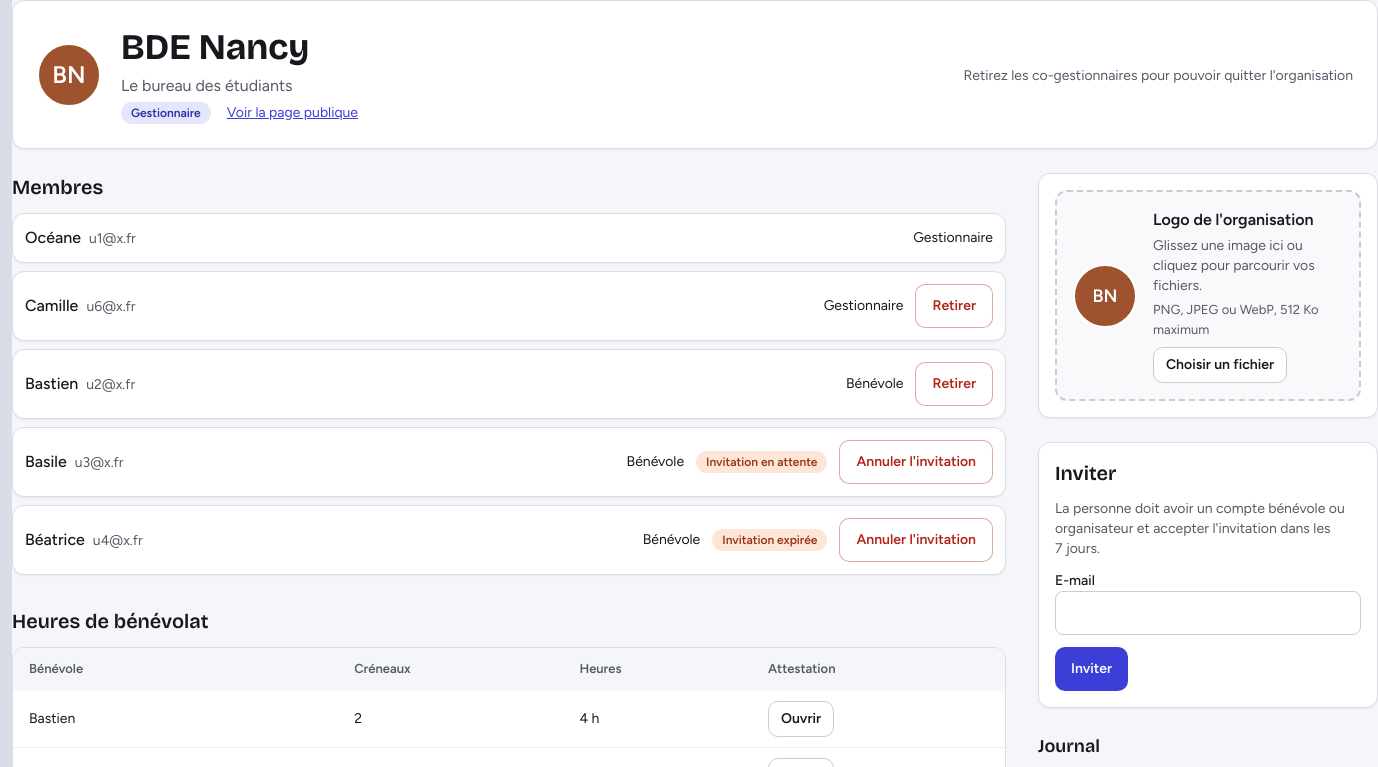
OrganizationDetailView › sends the invitation and confirms it
The image size is (1378, 767).
Type "b@x.fr" into the field labelled "E-mail" at (1208, 613), box [1055, 591, 1361, 635]
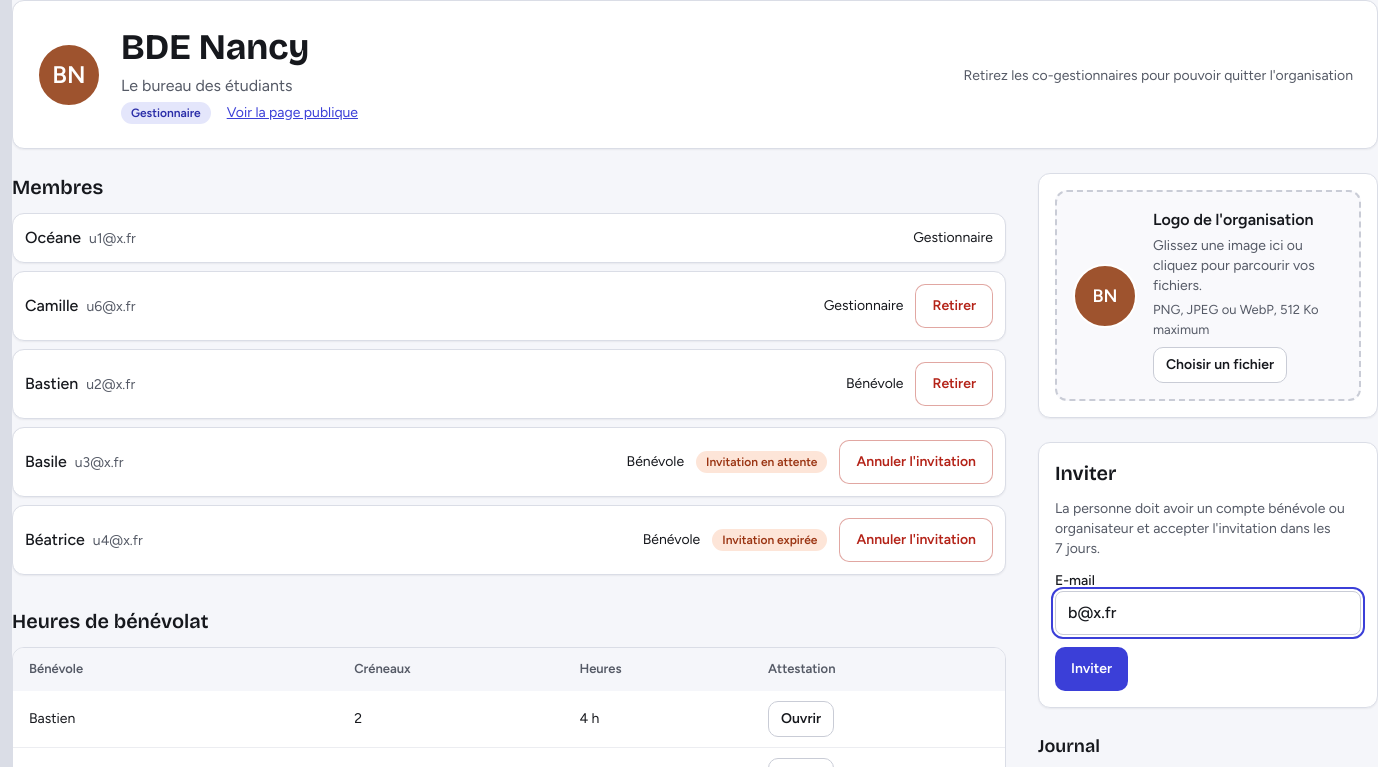
Click the button "Inviter" at (1092, 669), box [1055, 647, 1128, 691]
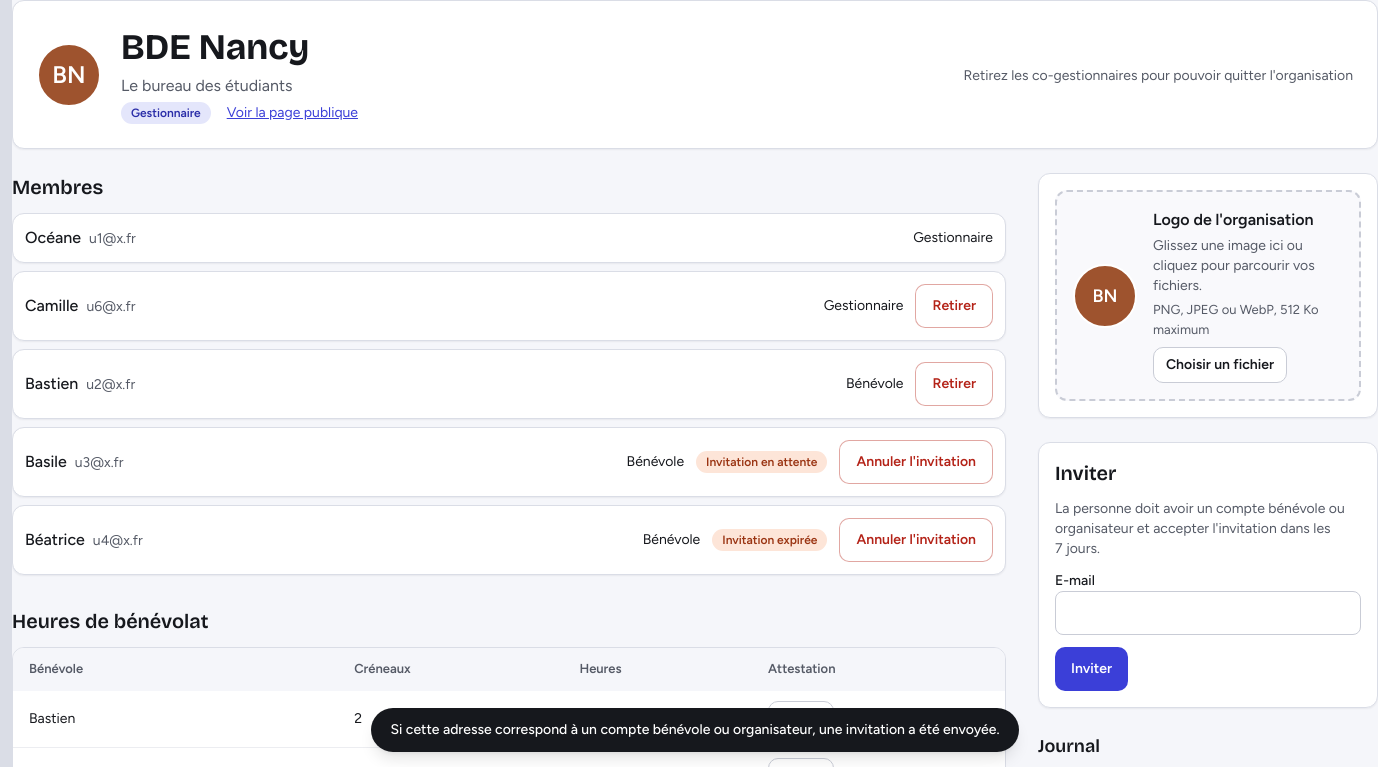
Result: the text "Si cette adresse correspond à un compte" is shown at [390, 721, 1000, 738]
